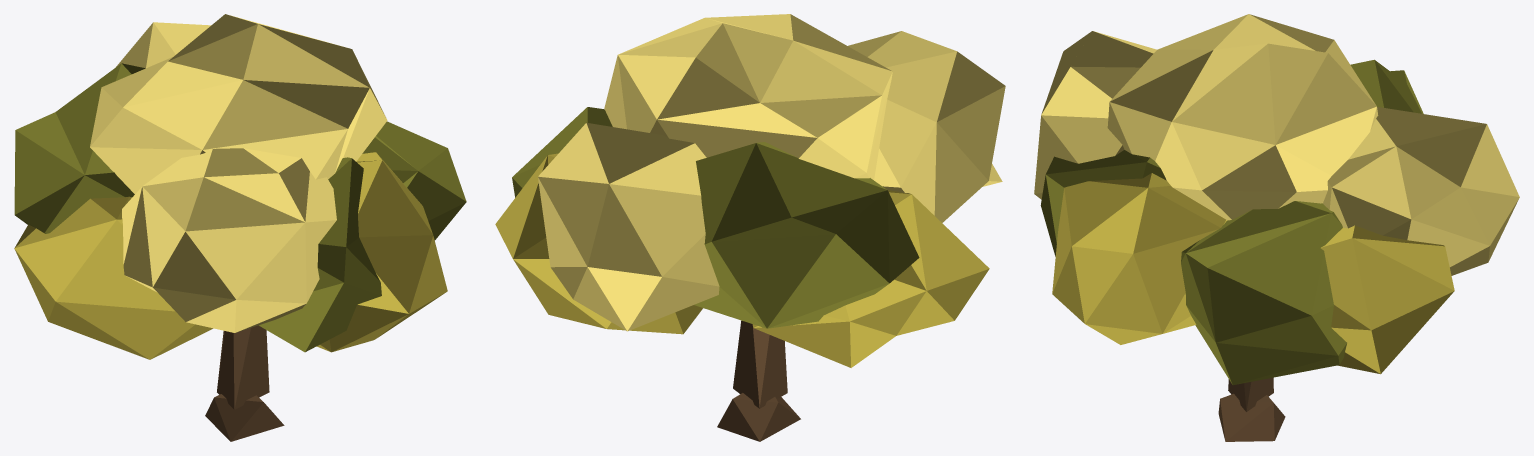
Rendered from tree_oak_4_lod1.glb.
3 renders of one model, left to right at view 1: azimuth 30°, elevation 25°; view 2: azimuth 150°, elevation 25°; view 3: azimuth 270°, elevation 25°, orthographic. The views are drawn at different scales.
Parts seen in each view (by area): view 1: tree_oak_4_lod1; view 2: tree_oak_4_lod1; view 3: tree_oak_4_lod1.
Boxes of the visible parts, x1,y1,x2,y2 form: tree_oak_4_lod1: (14,14,466,441); tree_oak_4_lod1: (495,14,1005,441); tree_oak_4_lod1: (1034,14,1519,441).
Bounding box in the file's own units: 7.93 × 7.13 × 7.92.
